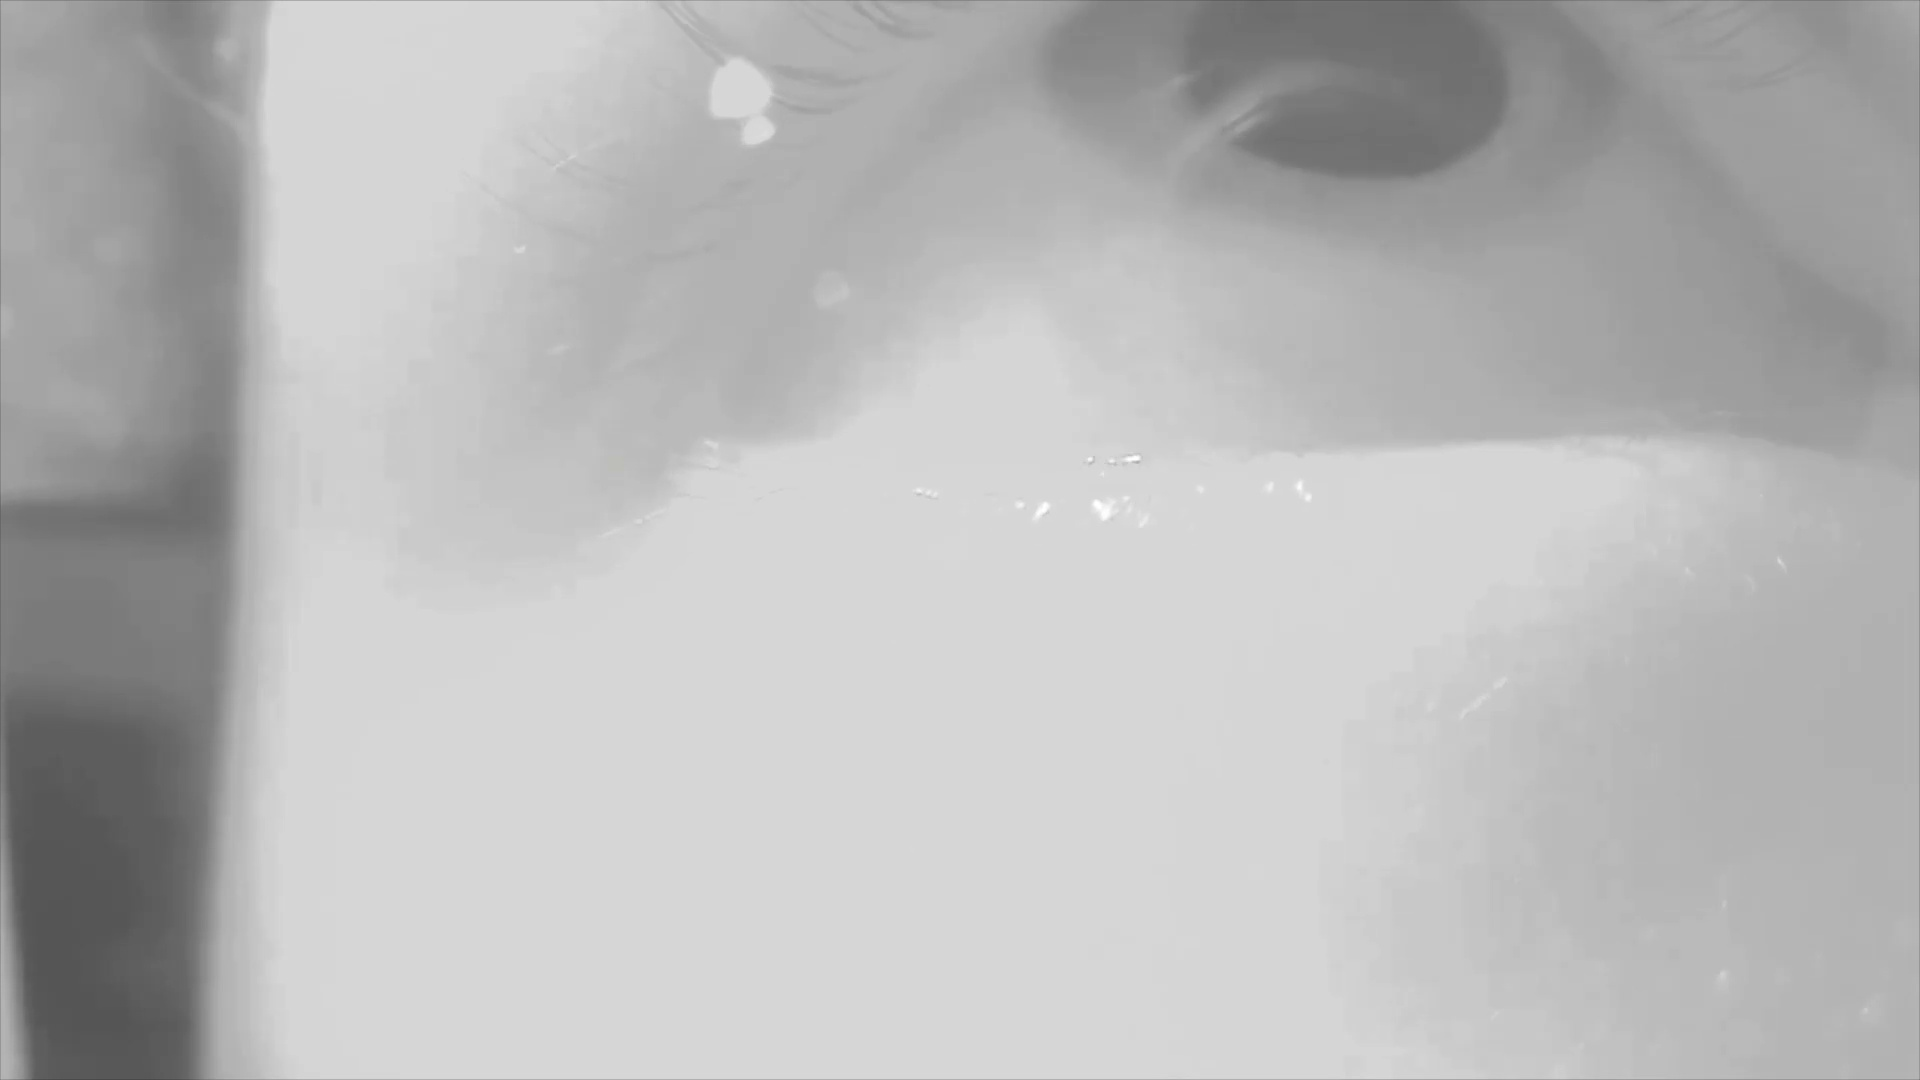pupil: (1186, 6, 1513, 177)
